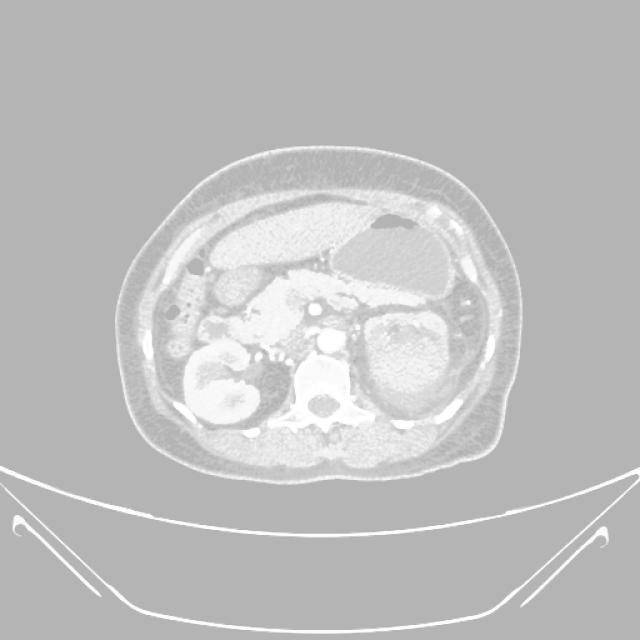TUMOR: (165, 229, 456, 370)
